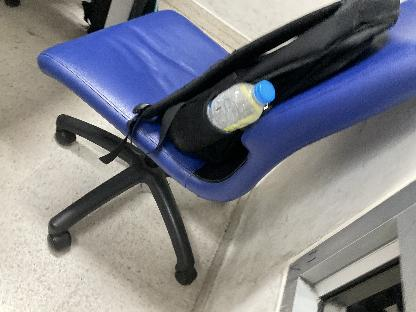Plastic Bottle: (204, 81, 280, 137)
